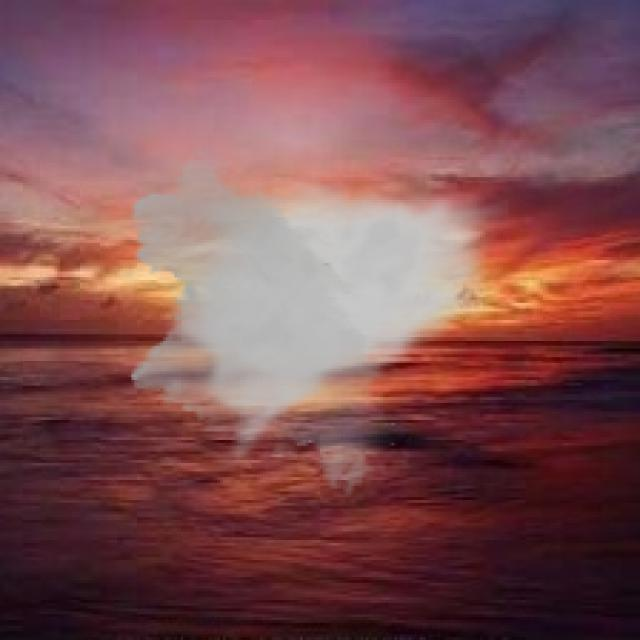smoke: (120, 149, 509, 497)
